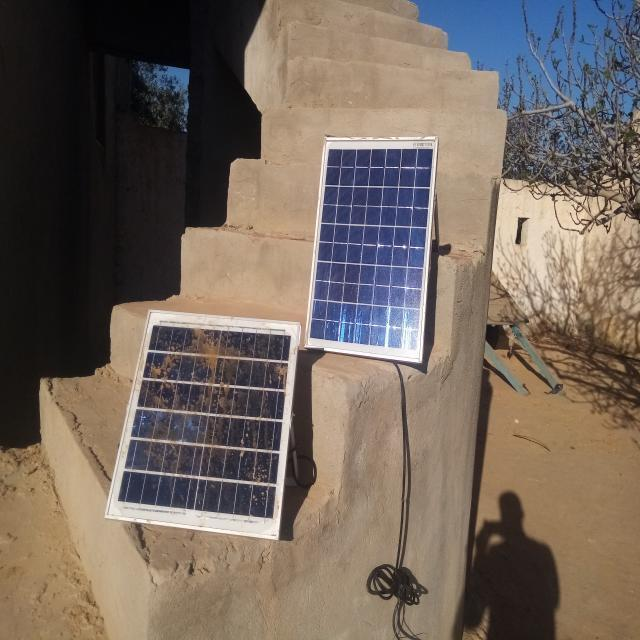Normal Solar Panel: (305, 137, 438, 363)
